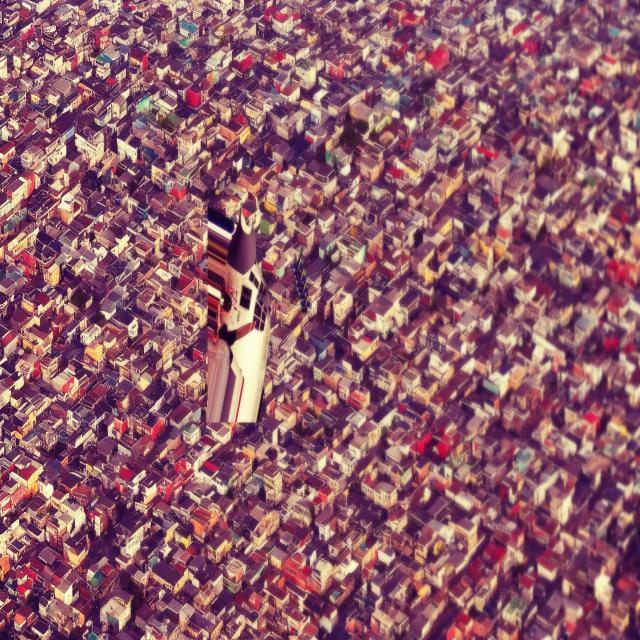airplane: (196, 192, 272, 430), (292, 243, 310, 313)
